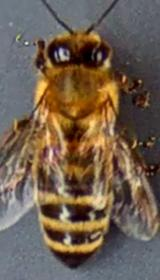varroa_mite: (31, 140, 62, 169)
